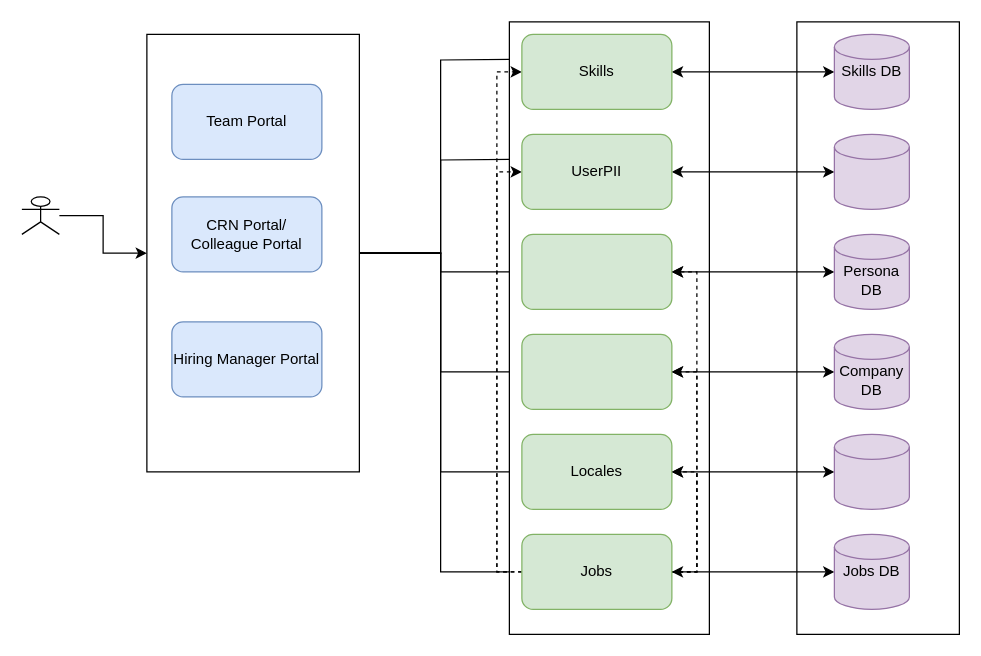
Image size: 981x656. Some labels were removed from this diagram. The box of each missing label's shape, as (x1, y1, x2, y2) in pixels:
Company: (521, 333, 672, 409)
Locales Db: (833, 433, 909, 509)
User: (21, 196, 59, 234)
User PII DB: (833, 133, 909, 209)
UserPersona: (521, 233, 672, 309)
